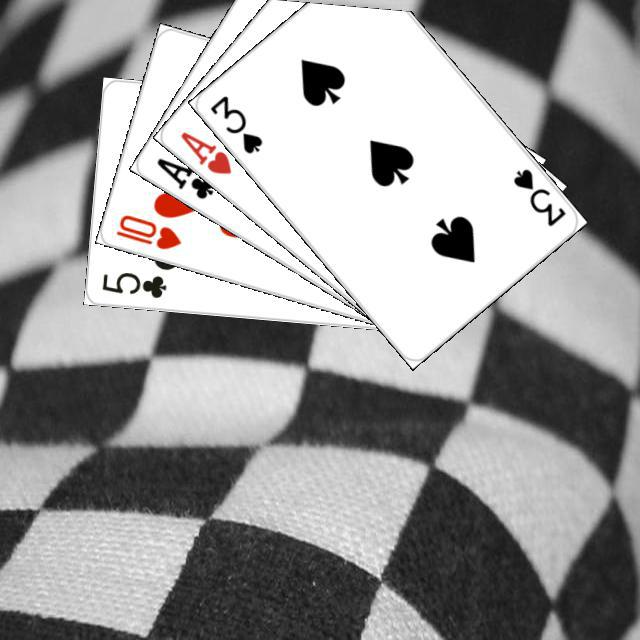10h: (111, 209, 183, 252)
3s: (205, 90, 265, 156), (508, 163, 568, 228)
5c: (97, 267, 168, 300)
Ac: (151, 152, 216, 201)
Ah: (175, 126, 234, 176)
